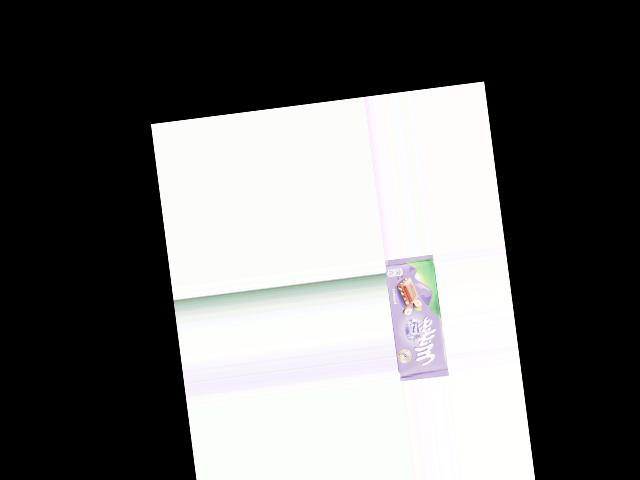chocolate: (383, 253, 448, 381)
